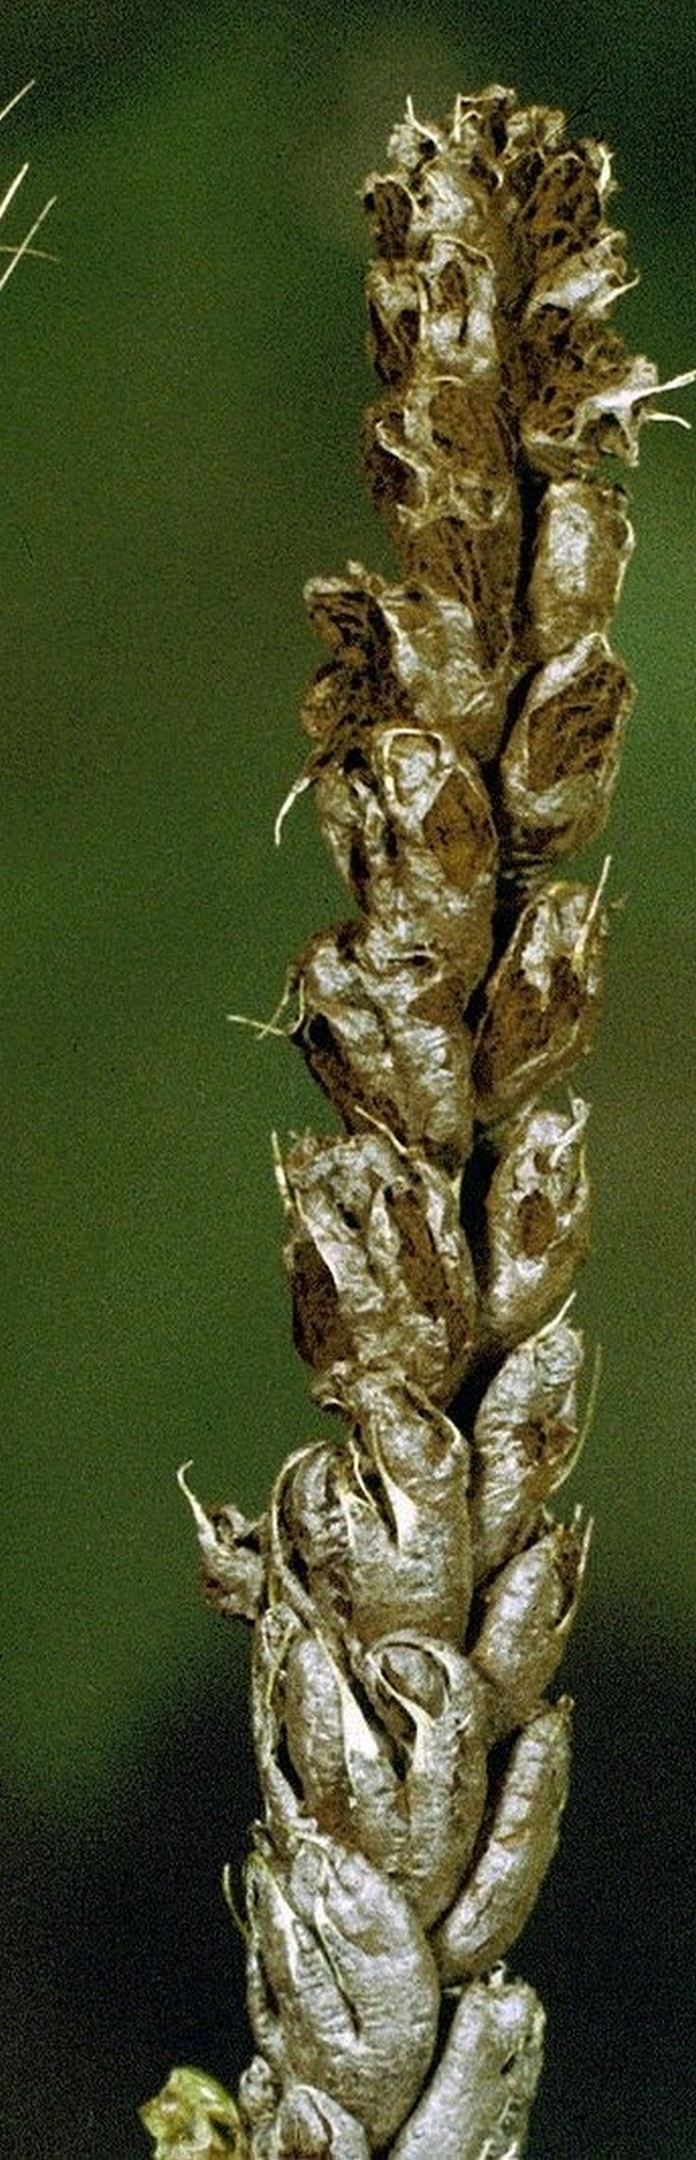Wheat Loose Smut: (156, 32, 642, 2160)
